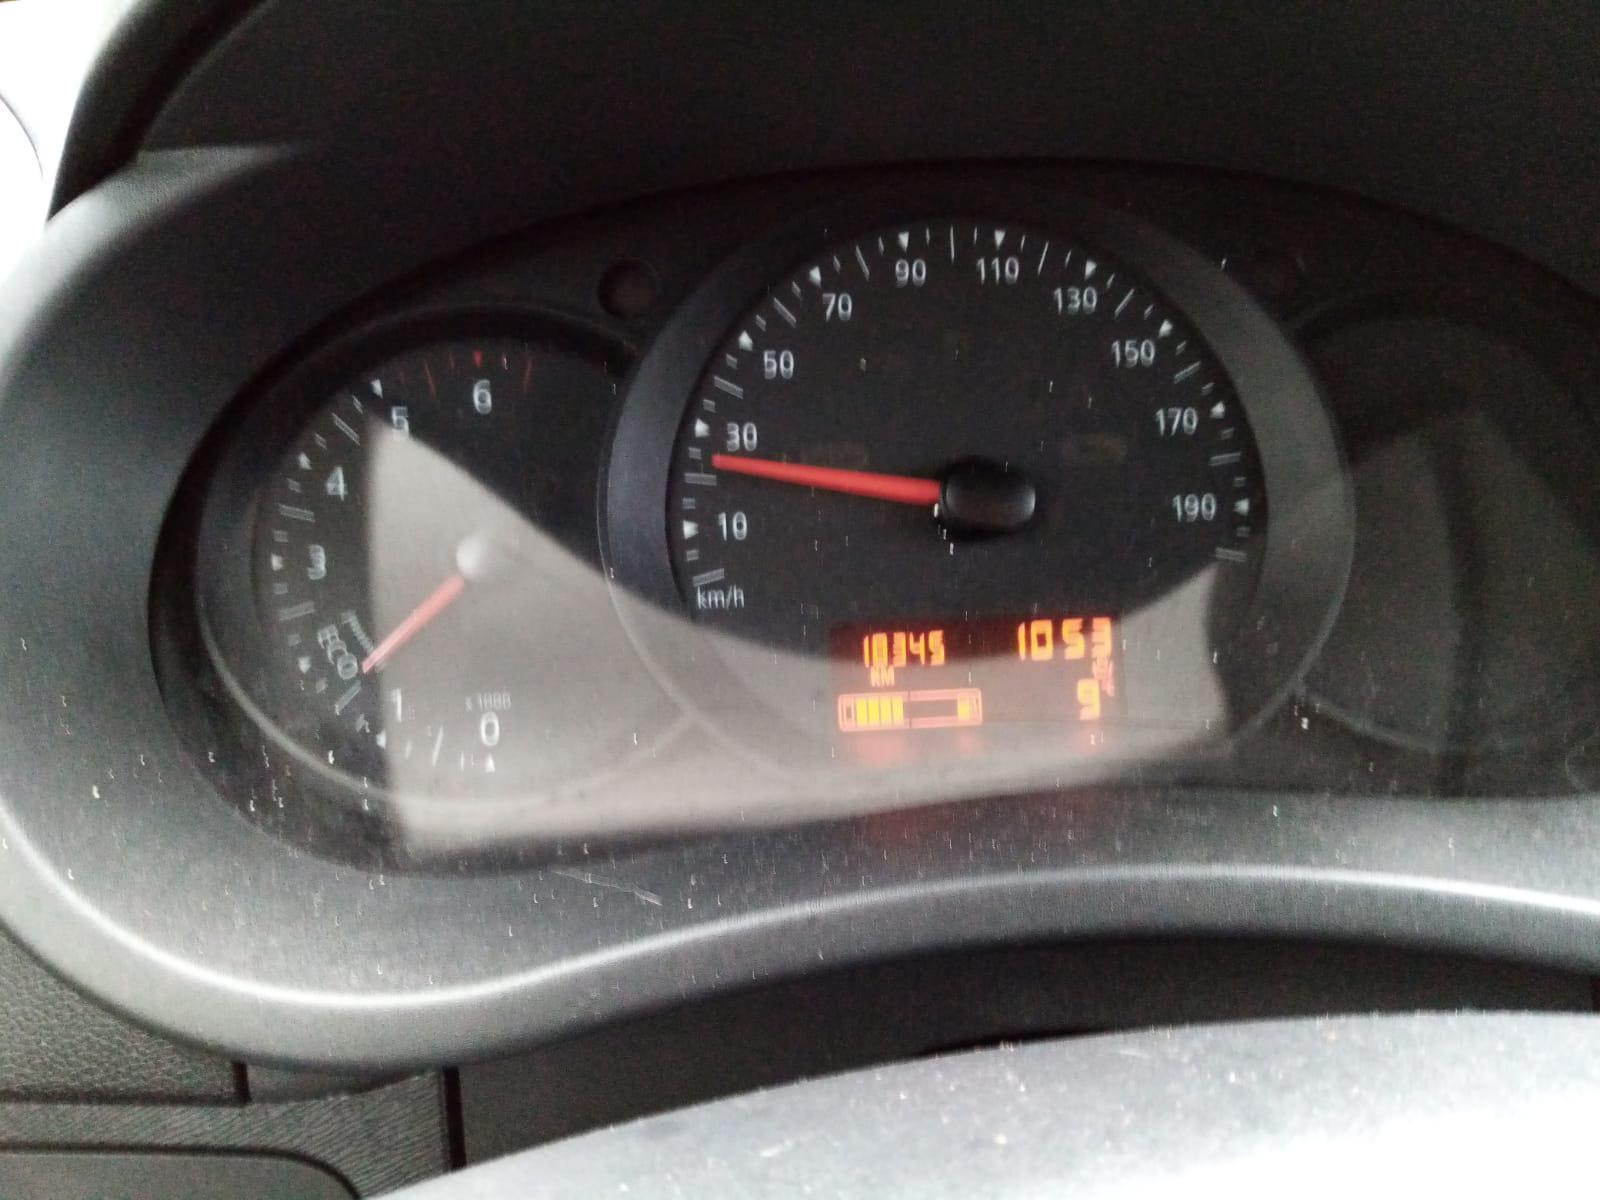0: (1029, 618, 1054, 661), (871, 632, 889, 666)
1: (1015, 620, 1027, 659), (860, 634, 871, 668)
3: (1090, 616, 1112, 658), (892, 632, 906, 666)
4: (908, 632, 926, 666)
5: (1060, 616, 1086, 661), (929, 629, 945, 667)
9: (1076, 678, 1101, 718)
X: (879, 666, 894, 687), (871, 666, 882, 688)
odometer: (826, 610, 1126, 735)
